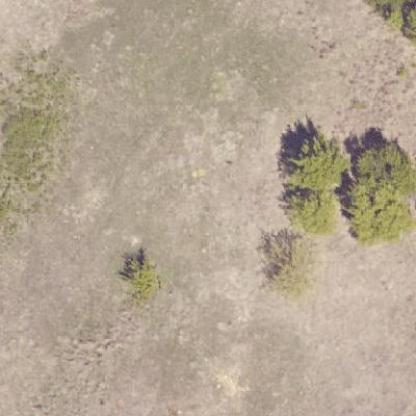tree-top: (346, 138, 412, 242), (282, 129, 342, 236), (255, 231, 322, 296), (118, 257, 166, 299)
